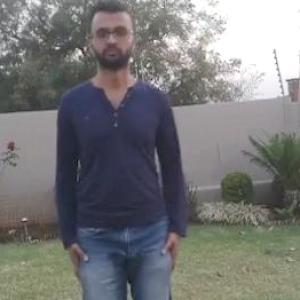follow: (55, 6, 190, 299)
